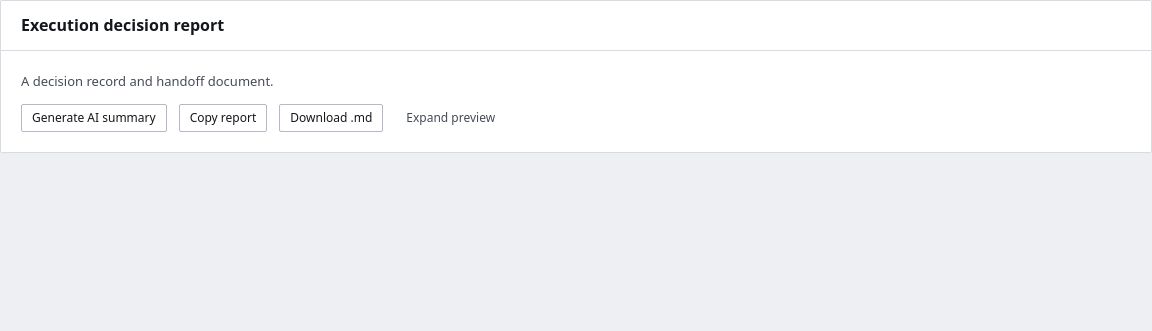
Test: ActionReportWorkspace › expanding reveals the full Markdown report; collapsing hides it again
Click the button "Expand preview": (451, 118) [395,104,506,132]
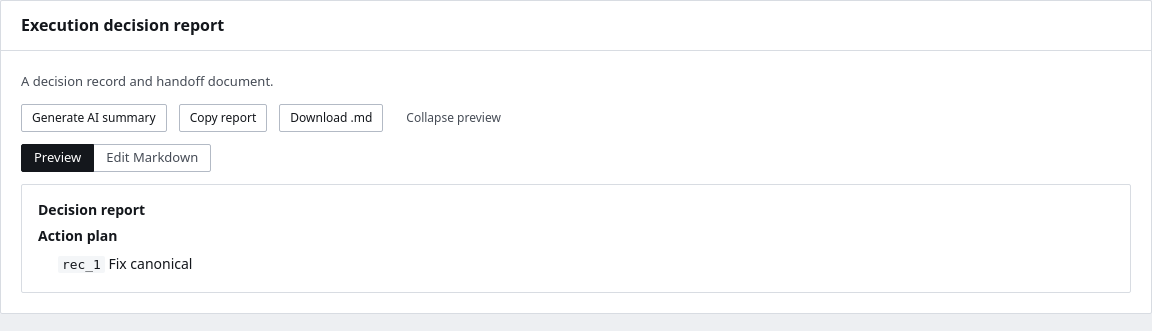
expect the heading "Action plan" is shown: met, box [38,226,118,245]
Click the button "Collapse preview": (454, 118) [395,104,512,132]
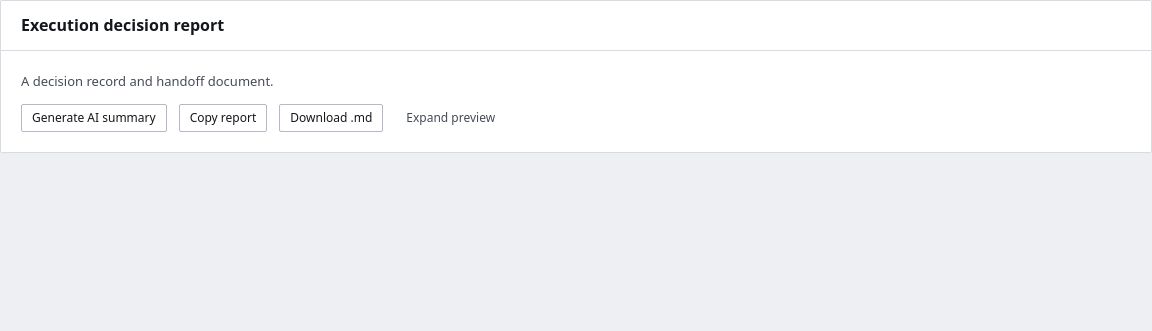
expect the heading "Action plan" is gone: met
